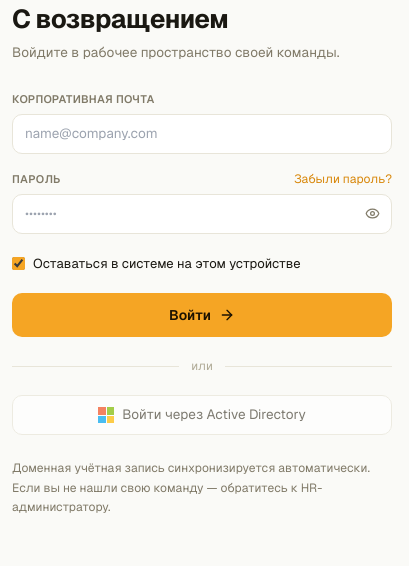
Test: LoginForm › shows an inline error on failed login
This screenshot has width=409, height=566.
Type "x@y.io" into the field labelled "Корпоративная почта". click: (202, 134)
box: [12,114,392,154]
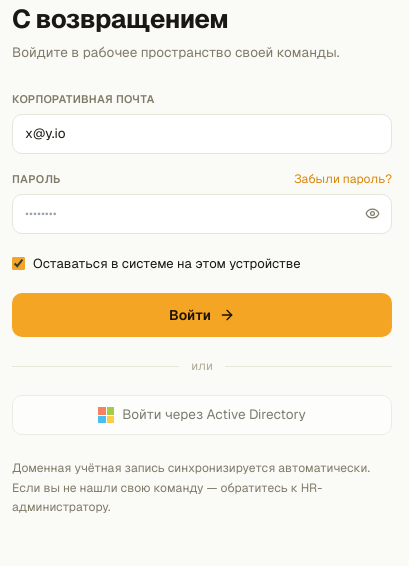
Type "bad" into the password field labelled "Пароль". click: (202, 214)
box: [12,194,392,234]
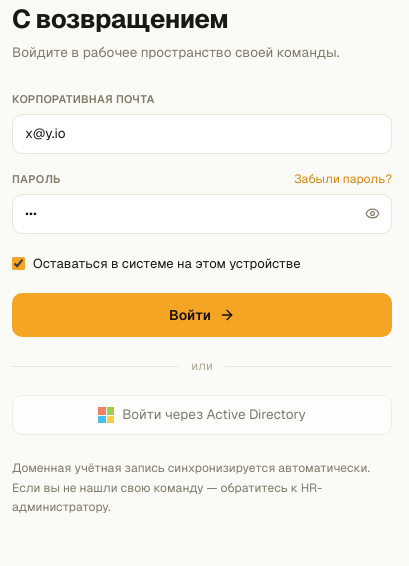
Click the button "Войти". click: (202, 315)
box: [12,293,392,337]
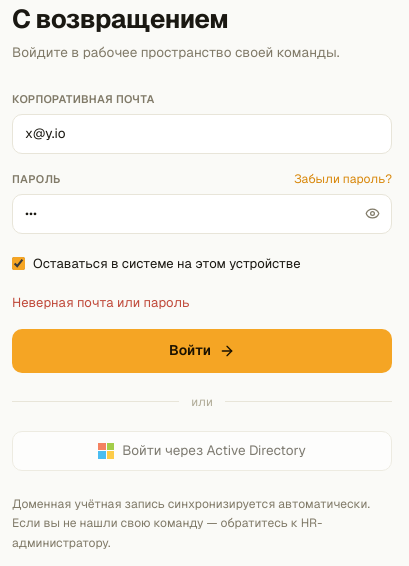
expect the text "Неверная почта или пароль" is shown: met, box [12,295,190,310]
